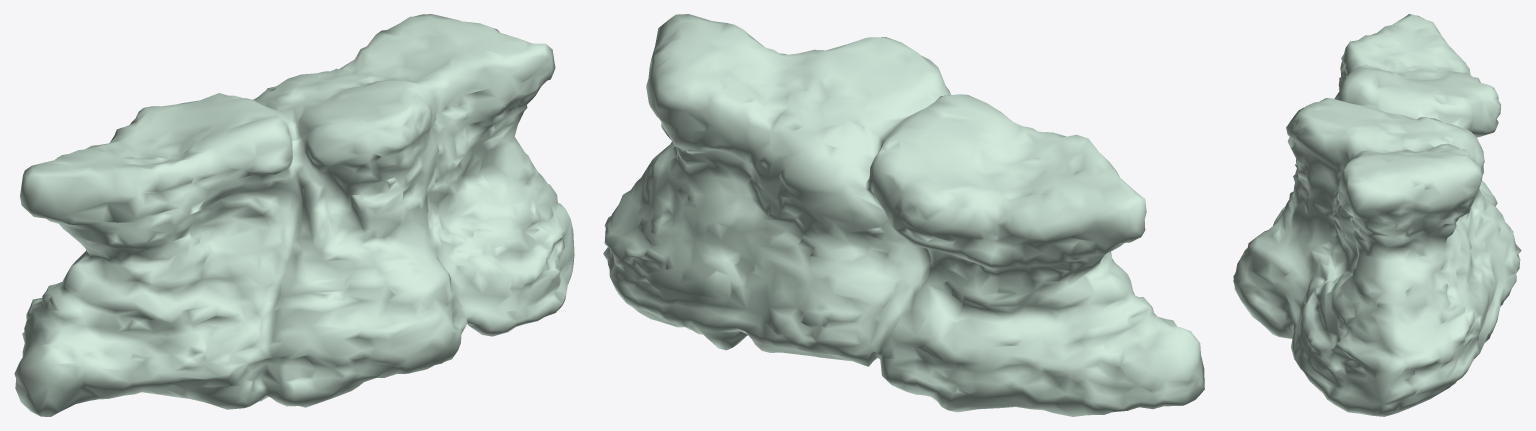
Rendered from lava_wall_03.FBX.
3 views of the same model, side by side, from view 1: azimuth 30°, elevation 25°; view 2: azimuth 150°, elevation 25°; view 3: azimuth 270°, elevation 25° (orthographic). The views are drawn at different scales.
Visible parts, largest first — view 1: lava_wall_03_LOD0; view 2: lava_wall_03_LOD0; view 3: lava_wall_03_LOD0.
Boxes of the visible parts, x1,y1,x2,y2 form: lava_wall_03_LOD0: [14, 14, 574, 416]; lava_wall_03_LOD0: [603, 14, 1204, 416]; lava_wall_03_LOD0: [1233, 14, 1521, 416].
Size of what is drawn, in the model's own units: 652 by 298 by 339.
